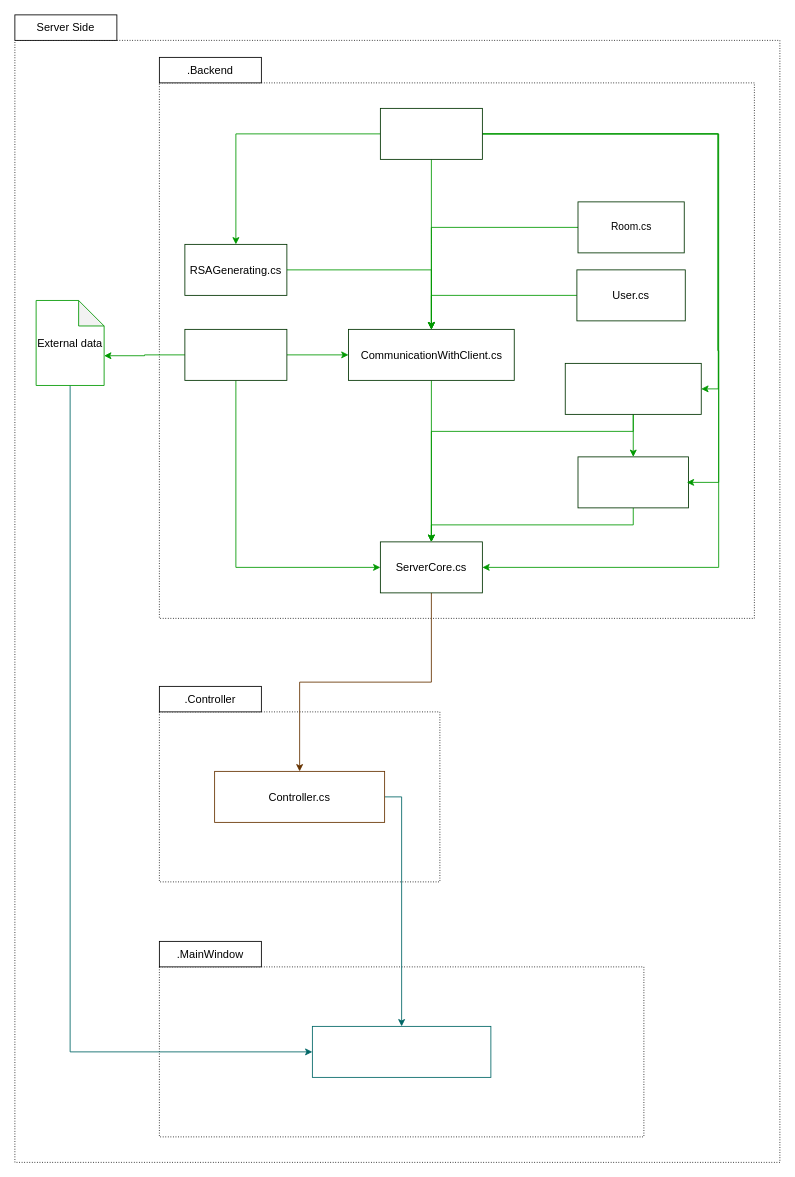
The diagram is 795 pixels wide and 1177 high, and some of its shapes have lost their labels. Each missing label, with the centre of its shape:
BasicInfoIpAddress.cs: [632,388]
BasicListener.cs: [632,482]
Constants.cs: [431,133]
MainWindow.xaml.cs: [401,1051]
SimpleLog.cs: [235,354]
